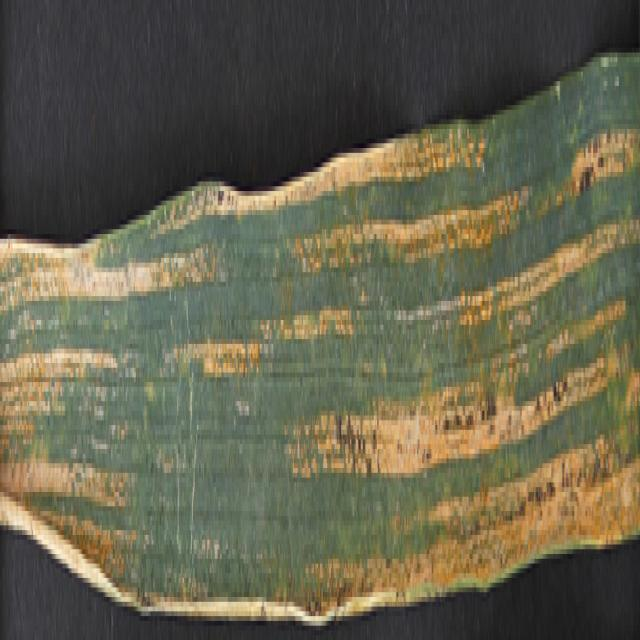leaf rust: (1, 53, 638, 597)
